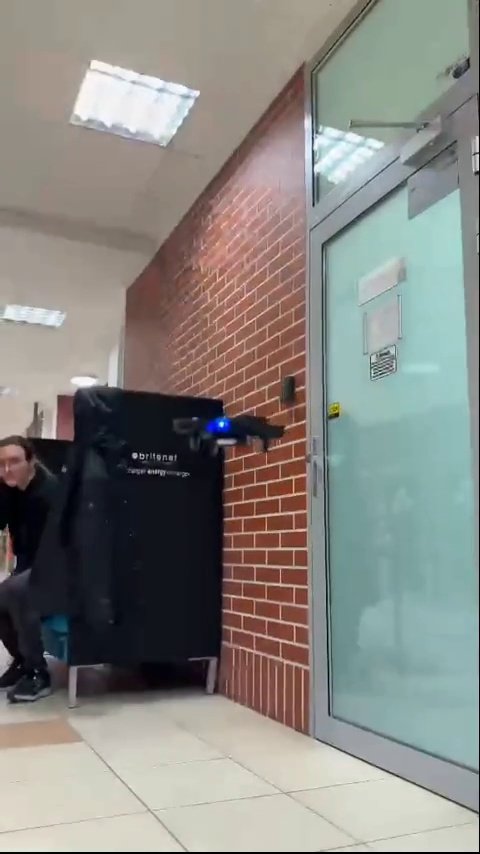drone: (174, 412, 283, 452)
no vest: (0, 433, 68, 698)
